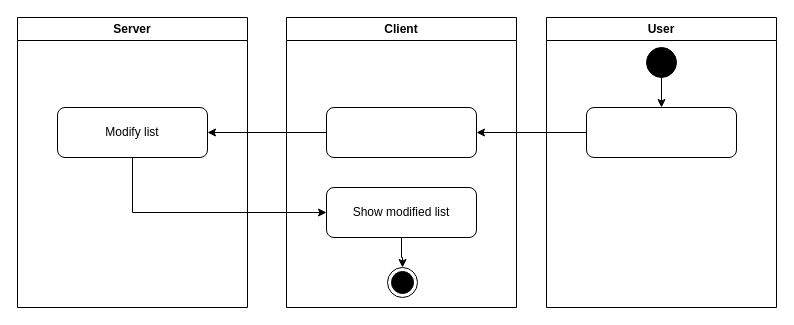
Image size: 794x325. Some labels were removed from this diagram. Here are the shapes that lost their labels. From the top down, the centre of each, then its label:
(x=401, y=132): Request modify list
(x=661, y=132): Request Modify
